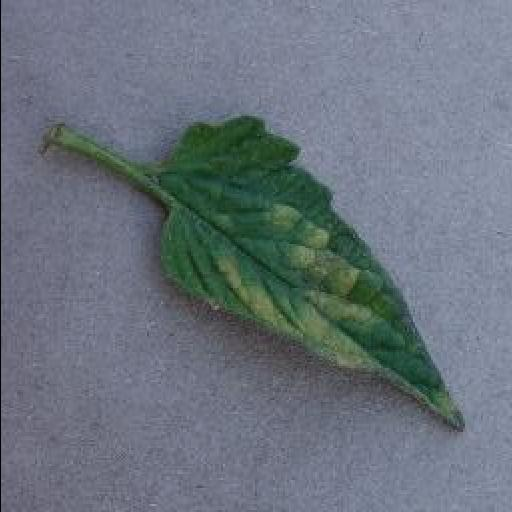disease_tomato: (158, 115, 466, 436)
